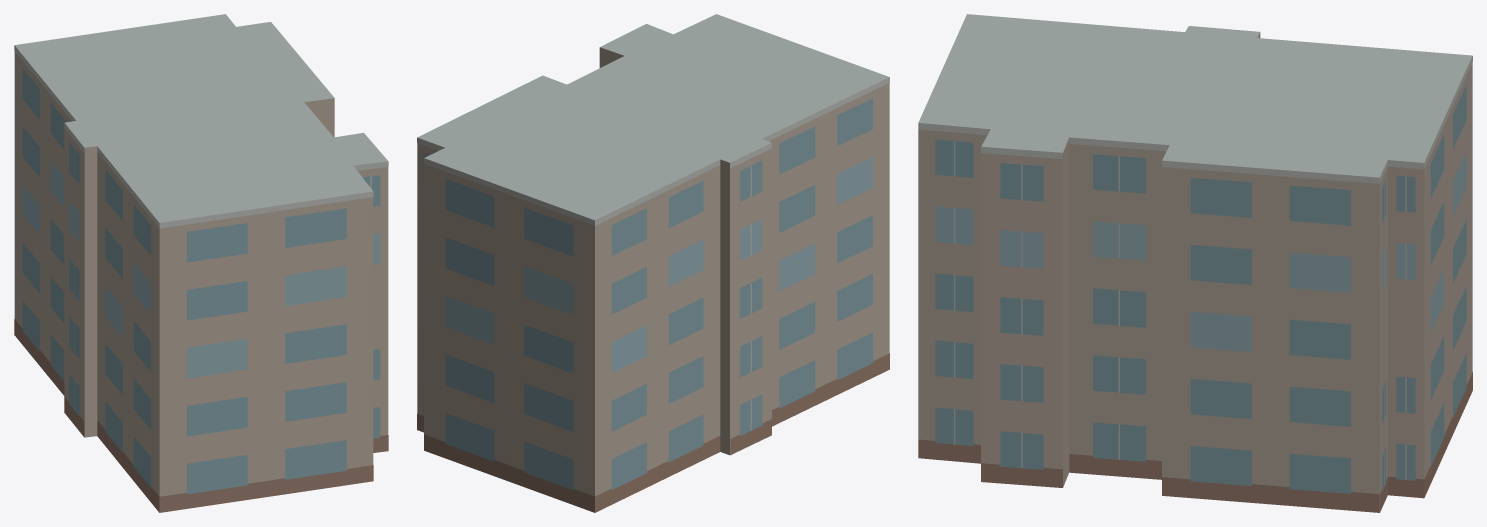
Rendered from survey-upis-32696405.glb.
3 views of the same model, side by side, from view 1: azimuth 30°, elevation 25°; view 2: azimuth 150°, elevation 25°; view 3: azimuth 270°, elevation 25° (orthographic). The views are drawn at different scales.
Visible parts, largest first — view 1: survey-upis-32696405.tmp; view 2: survey-upis-32696405.tmp; view 3: survey-upis-32696405.tmp.
Part boxes in pixels (left/top/right/bottom): survey-upis-32696405.tmp: left=14, top=14, right=388, bottom=512; survey-upis-32696405.tmp: left=417, top=14, right=889, bottom=512; survey-upis-32696405.tmp: left=918, top=14, right=1472, bottom=512.
Size of the model in its own units: 13.41 by 12.8 by 19.19.
